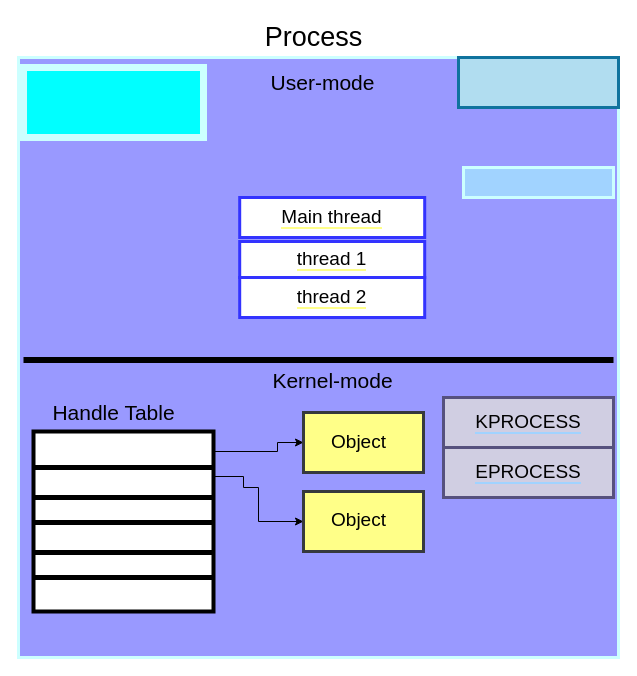
Image size: 637x676. Some labels were removed from this diagram. Each missing label, with the centre of its shape:
Access Token: point (113, 102)
PEB: point (538, 82)
PID: 123: point (538, 182)
